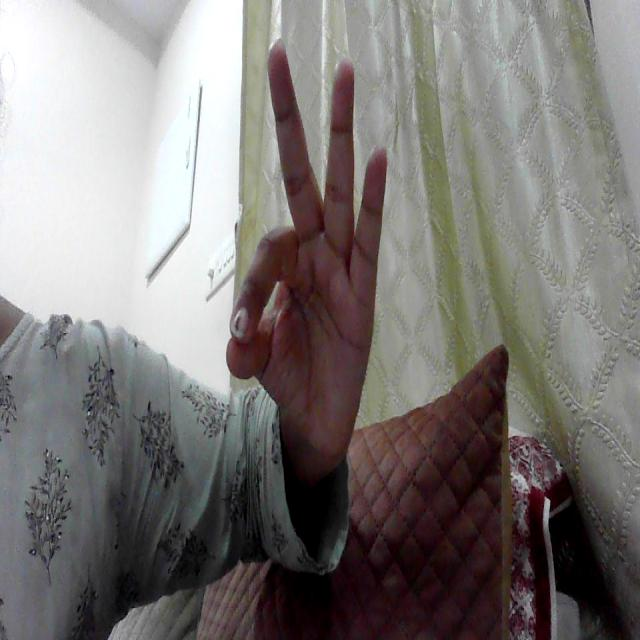Hamsasya: (215, 30, 402, 443)
